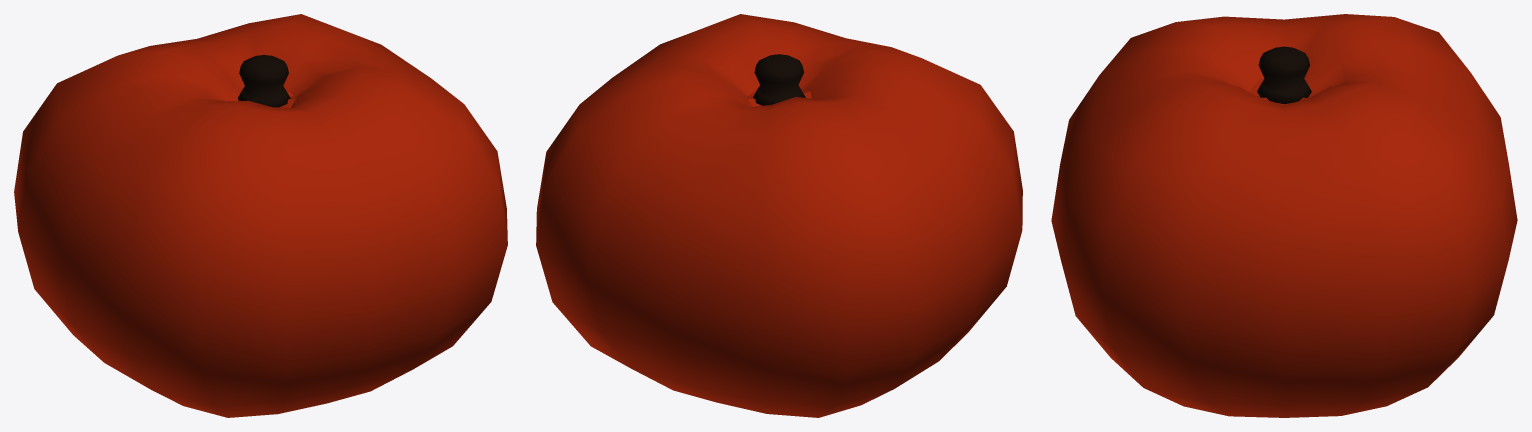
File: Tangerine.FBX
The picture shows the model from 3 angles, left to right: view 1: azimuth 30°, elevation 25°; view 2: azimuth 150°, elevation 25°; view 3: azimuth 270°, elevation 25°; orthographic projection. The views are drawn at different scales.
Visible parts, largest first — view 1: Tangerine; view 2: Tangerine; view 3: Tangerine.
Boxes of the visible parts, left/top/right/bottom form: Tangerine: left=14, top=14, right=507, bottom=417; Tangerine: left=536, top=14, right=1022, bottom=417; Tangerine: left=1051, top=14, right=1517, bottom=417.
Size of the model in its own units: 959 by 915 by 731.
